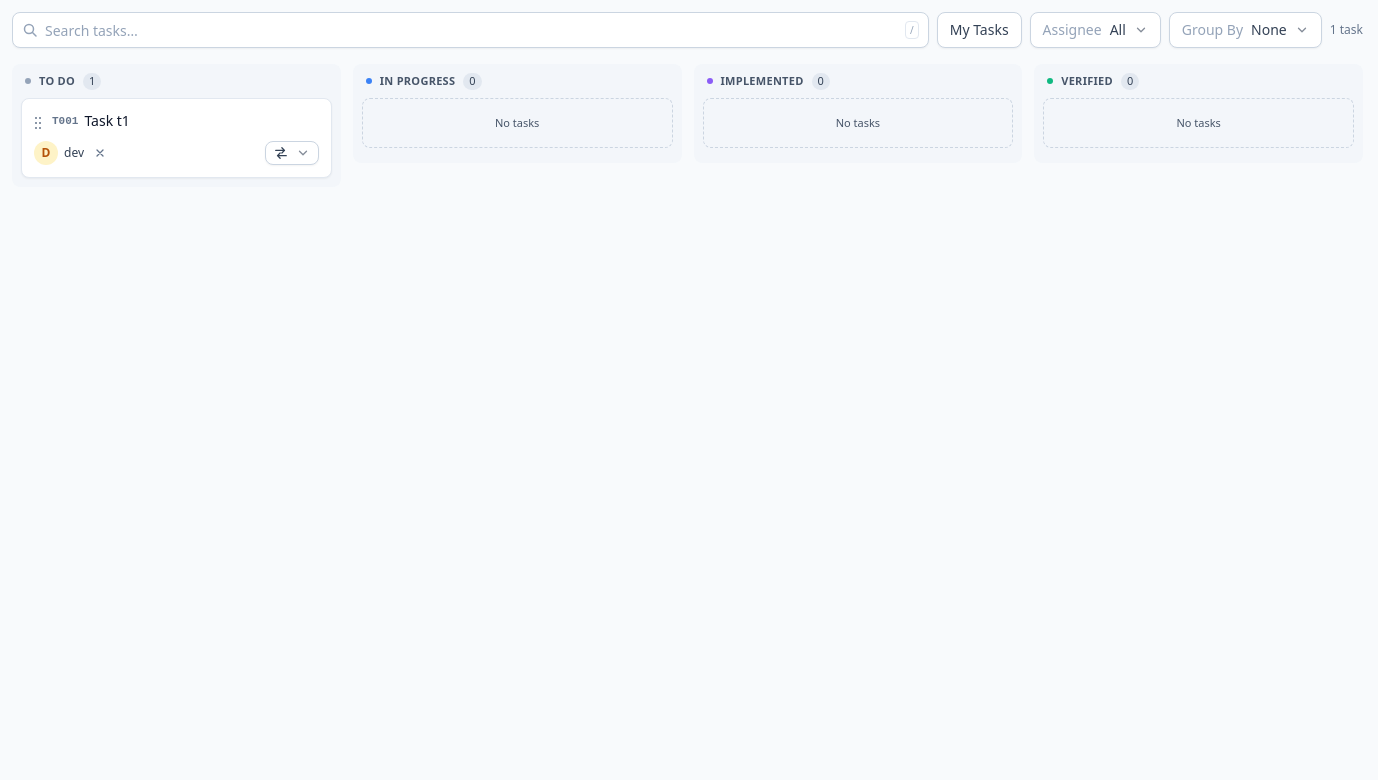
Scenario: TaskBoard assignment › lets a member release a task they hold
Expected: the button "Task t1" is shown, [84, 110, 319, 130]
Expected: the element titled "dev@example.com" is shown, [64, 144, 84, 160]
Click the button named "Unassign me from T001" at (100, 152), box [88, 140, 112, 164]
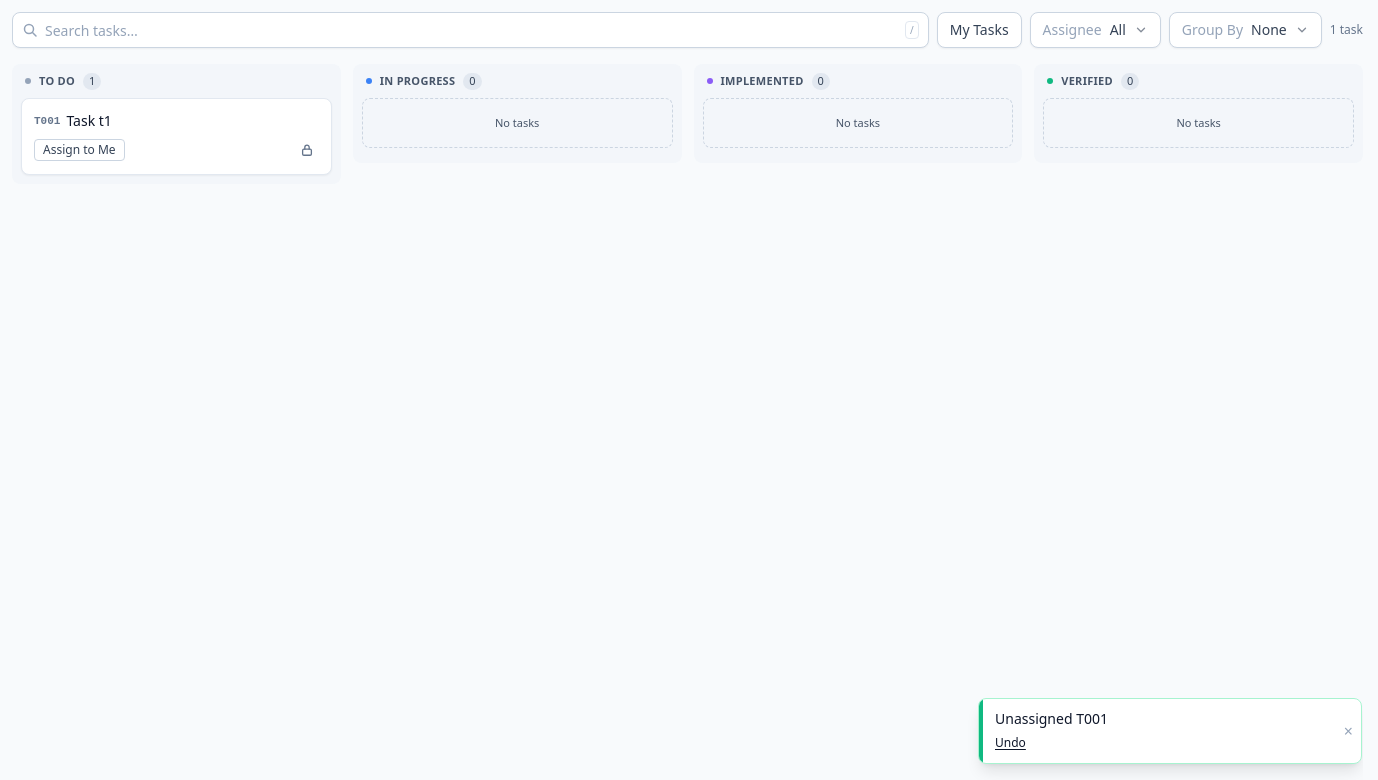
Expected: the button "Assign to Me" is shown, [34, 139, 124, 161]
